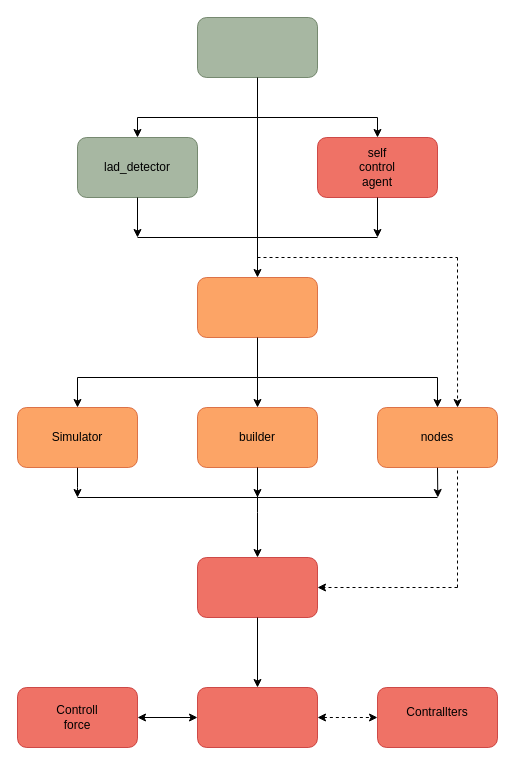
Image size: 515x765. Some labels were removed from this diagram. Each missing label, with the centre of its shape:
Ai: the point at 257,47
Board computer: the point at 257,717
Hardware: the point at 257,587
ROS2 API: the point at 257,307
